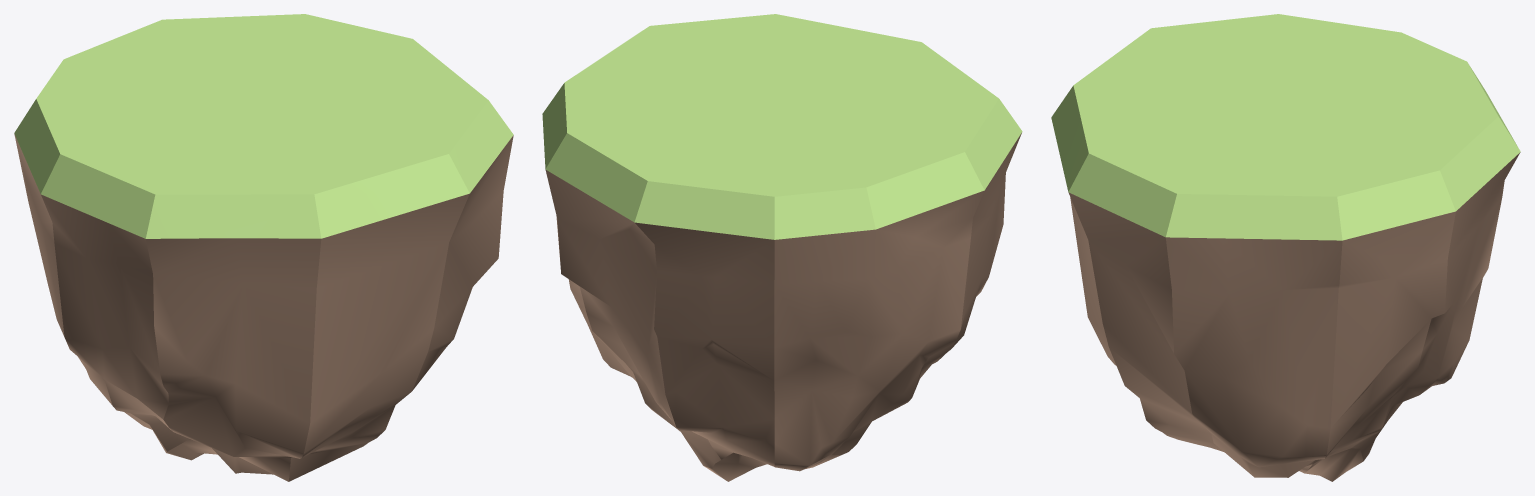
Rendered from tile_5_5.fbx.
3 renders of one model, left to right at view 1: azimuth 30°, elevation 25°; view 2: azimuth 150°, elevation 25°; view 3: azimuth 270°, elevation 25°, orthographic. The views are drawn at different scales.
Parts seen in each view (by area): view 1: Jump_Map_Tiles_5; view 2: Jump_Map_Tiles_5; view 3: Jump_Map_Tiles_5.
Part boxes in pixels (<box>): Jump_Map_Tiles_5: <box>14,14,513,481</box>; Jump_Map_Tiles_5: <box>542,14,1022,481</box>; Jump_Map_Tiles_5: <box>1051,14,1520,481</box>.
Size of the model in its own units: 4 by 3.33 by 3.93.
